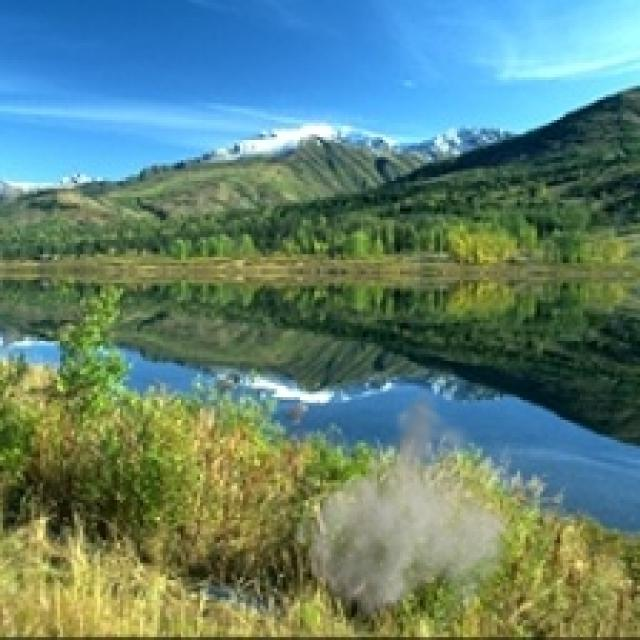smoke: (288, 383, 526, 637)
